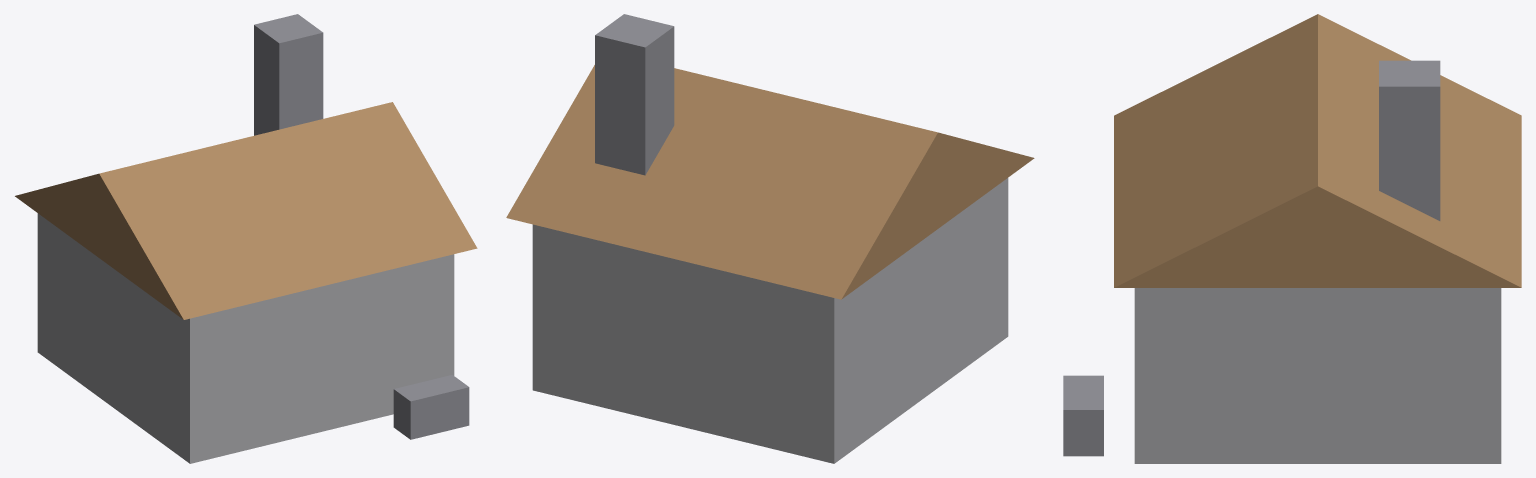
Rendered from workshop.glb.
The picture shows the model from 3 angles, left to right: view 1: azimuth 30°, elevation 25°; view 2: azimuth 150°, elevation 25°; view 3: azimuth 270°, elevation 25°; orthographic projection. The views are drawn at different scales.
Parts seen in each view (by area): view 1: walls, roof, chimney, anvil; view 2: walls, roof, chimney; view 3: roof, walls, chimney, anvil.
Part boxes in pixels (x1,y1,x2,y2): walls: (37, 213, 454, 463); roof: (15, 102, 477, 319); chimney: (254, 14, 323, 135); anvil: (393, 375, 469, 439); walls: (532, 178, 1008, 463); roof: (506, 65, 1034, 299); chimney: (595, 14, 674, 175); roof: (1114, 14, 1521, 287); walls: (1134, 288, 1501, 463); chimney: (1379, 60, 1440, 220); anvil: (1063, 375, 1103, 456).
Bounding box in the file's own units: 2 × 1.96 × 2.25.
